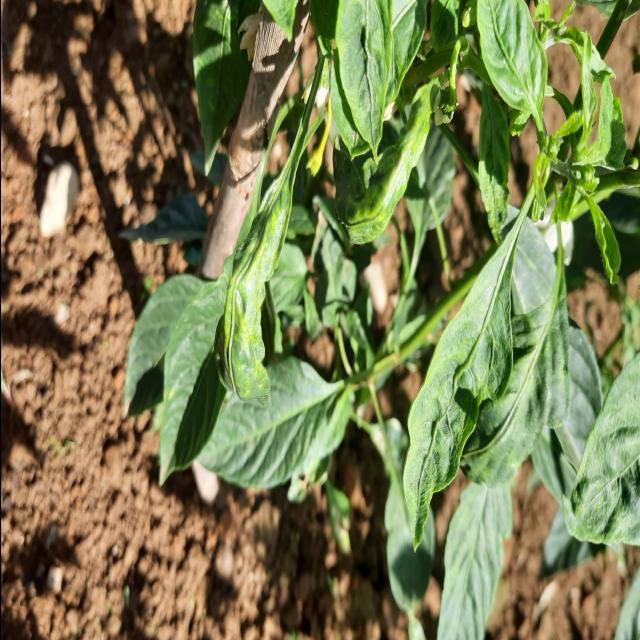thrips: (395, 210, 531, 566), (219, 145, 304, 427)
